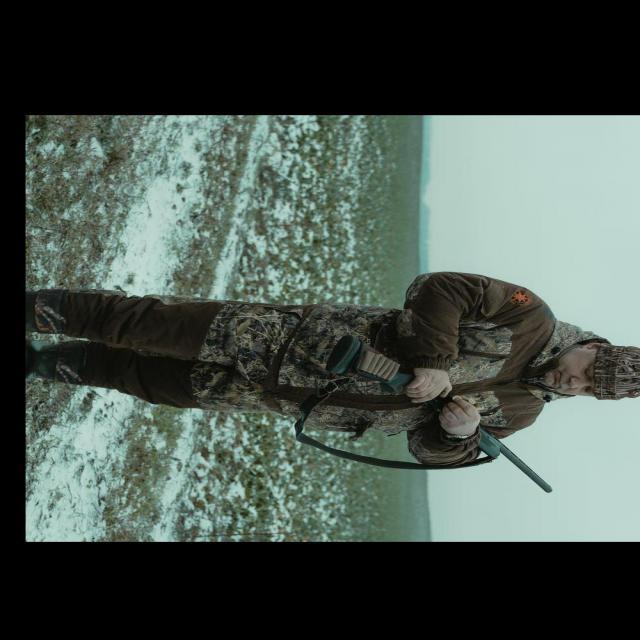weapon: (324, 335, 554, 493)
